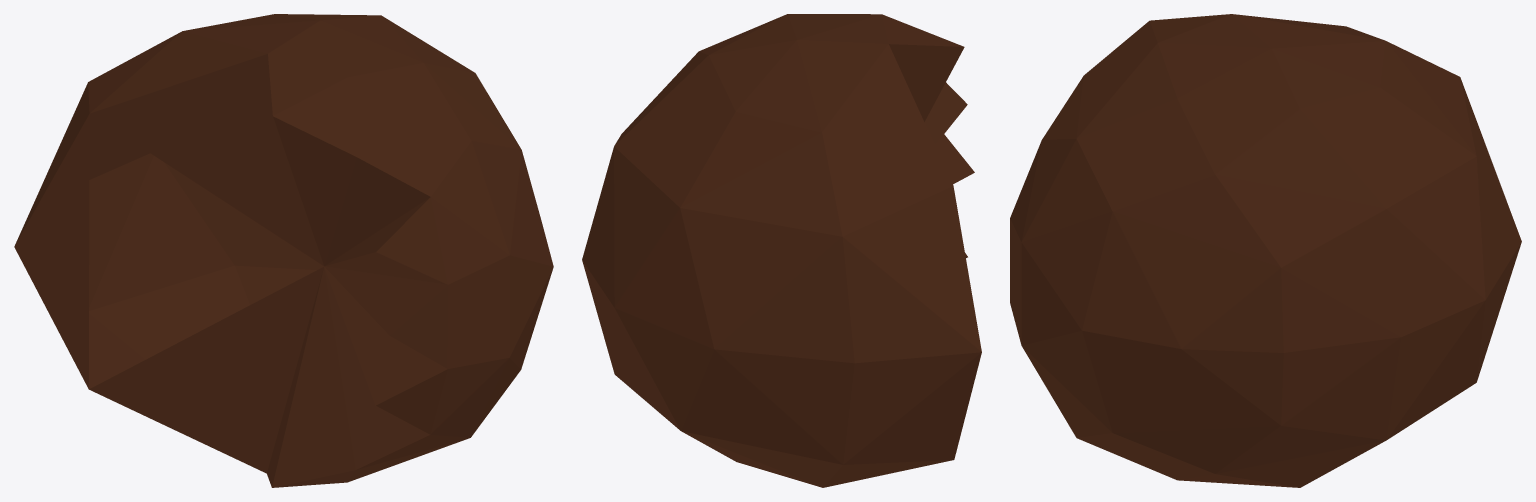
The model's file is hair15.glb.
3 views of the same model, side by side, from view 1: azimuth 30°, elevation 25°; view 2: azimuth 150°, elevation 25°; view 3: azimuth 270°, elevation 25° (orthographic).
Parts seen in each view (by area): view 1: tomodachi-2026-03-13-22-18-07-126; view 2: tomodachi-2026-03-13-22-18-07-126; view 3: tomodachi-2026-03-13-22-18-07-126.
Part boxes in pixels (left/top/right/bottom): tomodachi-2026-03-13-22-18-07-126: left=14, top=14, right=553, bottom=487; tomodachi-2026-03-13-22-18-07-126: left=582, top=14, right=981, bottom=487; tomodachi-2026-03-13-22-18-07-126: left=1010, top=14, right=1521, bottom=487.
Bounding box in the file's own units: 1.21 × 1.13 × 1.23.
Materials: 1 (1 with a texture image).
